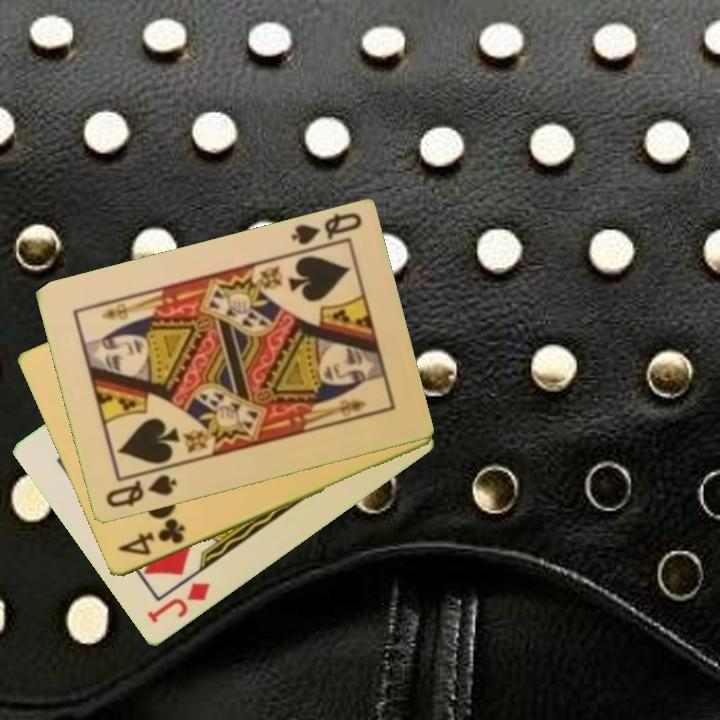4c: (114, 515, 188, 559)
Jd: (143, 579, 213, 627)
Qs: (102, 471, 180, 511), (287, 209, 365, 249)
